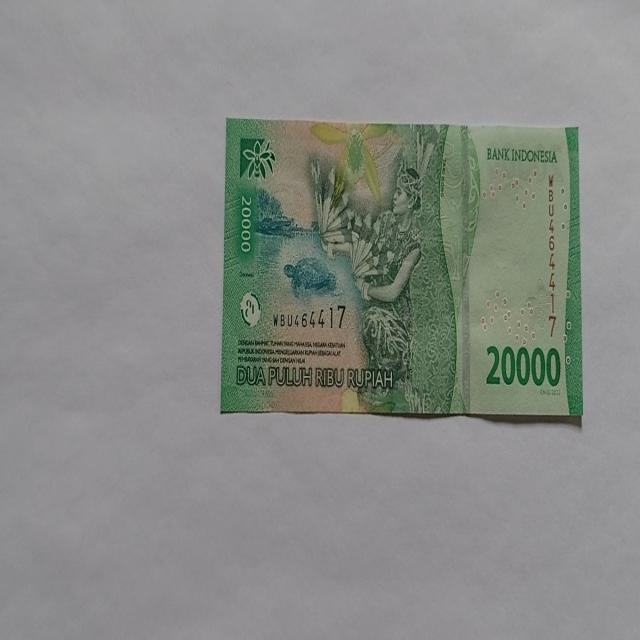dua puluh ribu rupiah: (220, 119, 582, 421)
